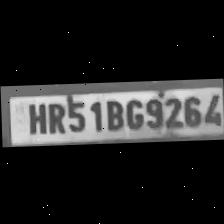1: (84, 96, 104, 132)
2: (162, 94, 182, 128)
4: (202, 90, 222, 126)
5: (62, 97, 86, 132)
6: (180, 92, 202, 126)
9: (142, 94, 162, 128)
B: (102, 96, 124, 130)
G: (122, 96, 144, 130)
H: (22, 100, 46, 134)
R: (43, 98, 65, 134)
